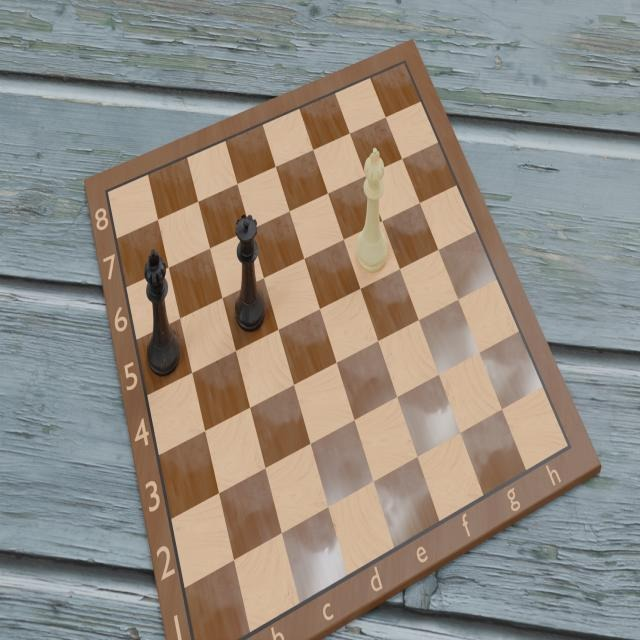black-king: (143, 248, 185, 378)
black-queen: (231, 212, 267, 336)
white-king: (354, 145, 390, 273)
